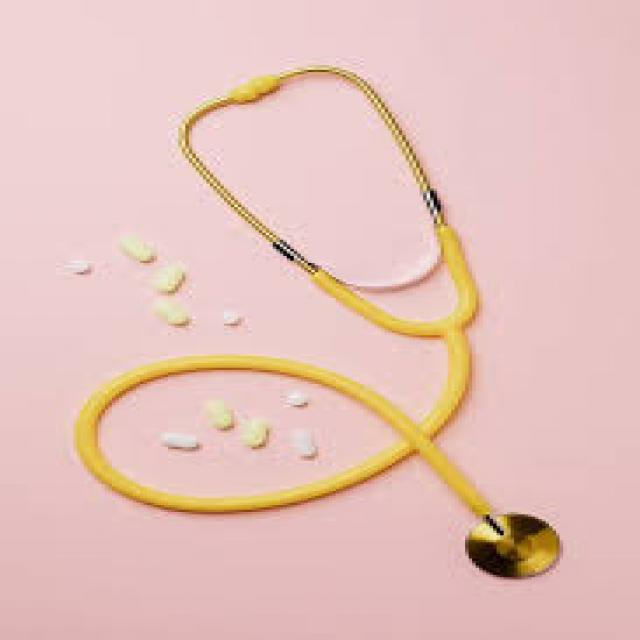stethoscope: (99, 77, 578, 590)
